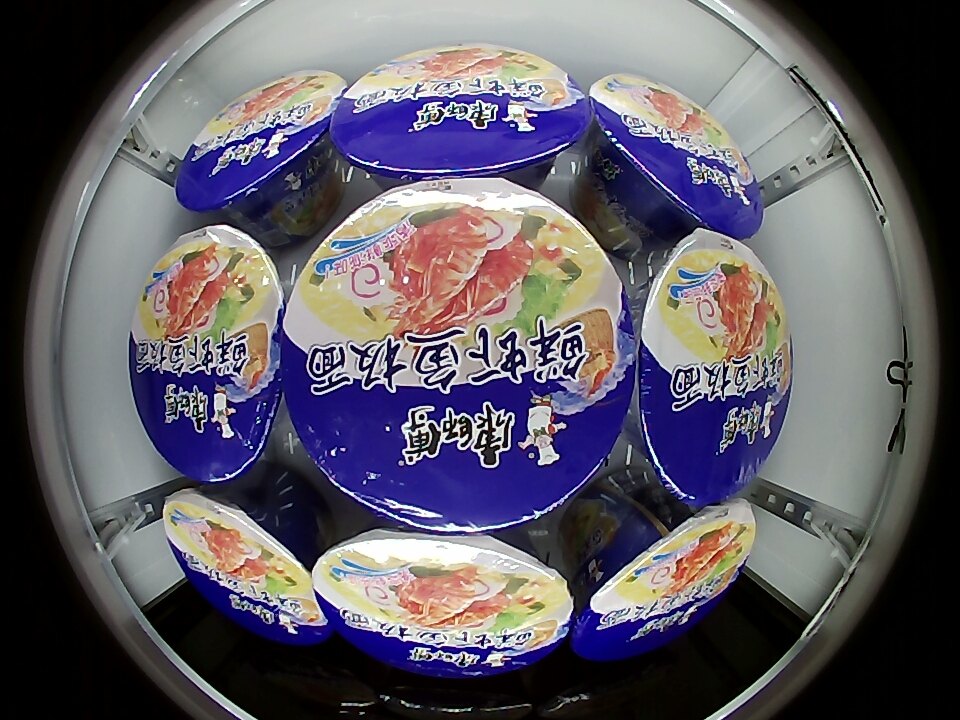laotansuancai: (279, 179, 638, 532), (637, 228, 793, 509), (130, 225, 286, 484), (311, 529, 576, 677), (329, 44, 592, 184), (570, 500, 757, 662), (590, 72, 765, 240), (164, 489, 331, 646), (174, 70, 346, 218)
